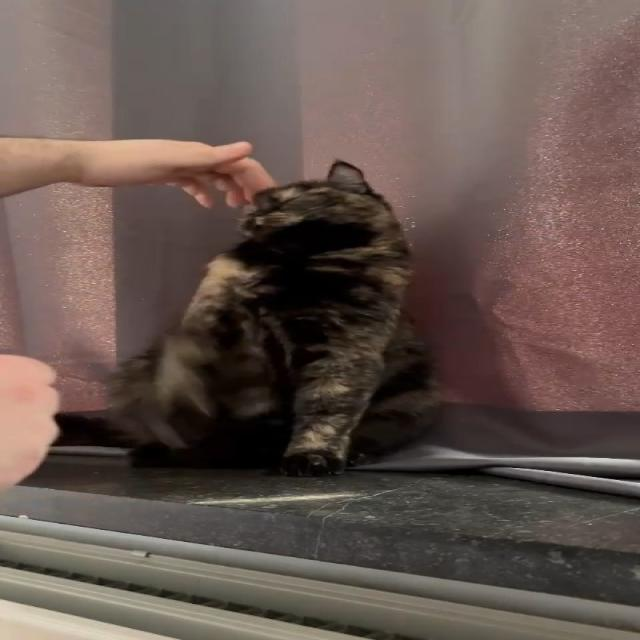authorized: (101, 158, 443, 477)
